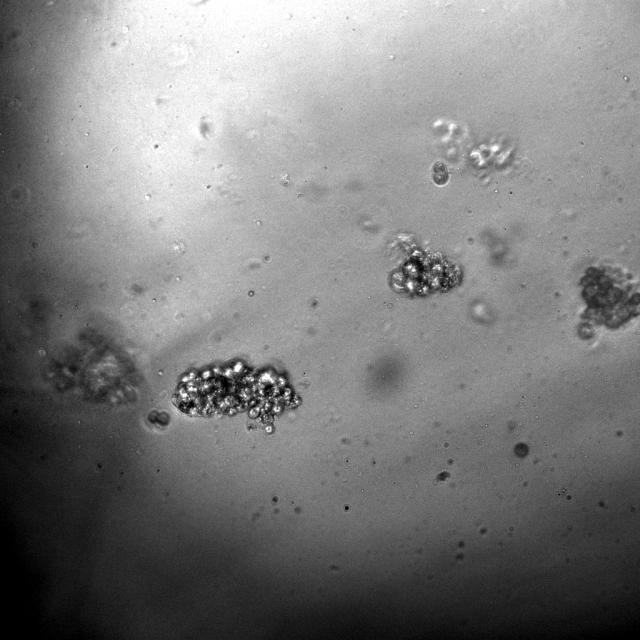organoid: (171, 358, 301, 434), (43, 327, 143, 405), (432, 118, 519, 175), (388, 234, 462, 296), (578, 264, 639, 338), (430, 160, 450, 187), (148, 409, 169, 426), (513, 441, 529, 458)
